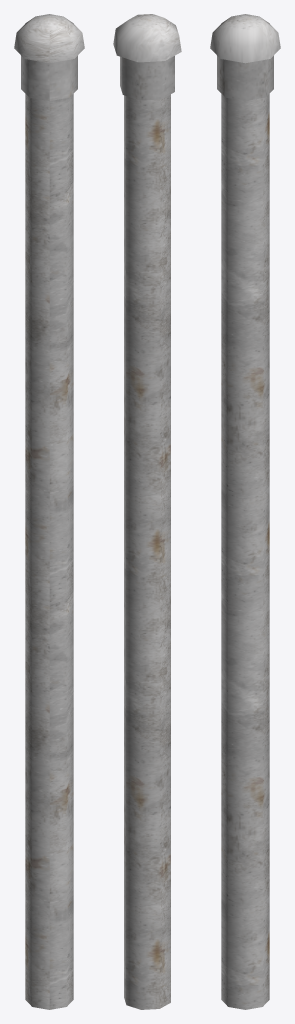
The model's file is ChainlinkFence_ShortPost.fbx.
3 renders of one model, left to right at view 1: azimuth 90°, elevation 25°; view 2: azimuth 210°, elevation 25°; view 3: azimuth 270°, elevation 25°, orthographic.
Parts seen in each view (by area): view 1: ChainlinkFence_ShortPost; view 2: ChainlinkFence_ShortPost; view 3: ChainlinkFence_ShortPost.
Part boxes in pixels (box(x1,y1,x2,y2)): ChainlinkFence_ShortPost: box(14, 14, 84, 1009); ChainlinkFence_ShortPost: box(113, 14, 181, 1009); ChainlinkFence_ShortPost: box(210, 14, 280, 1009).
Size of the model in its own units: 10.99 by 168 by 10.99.
